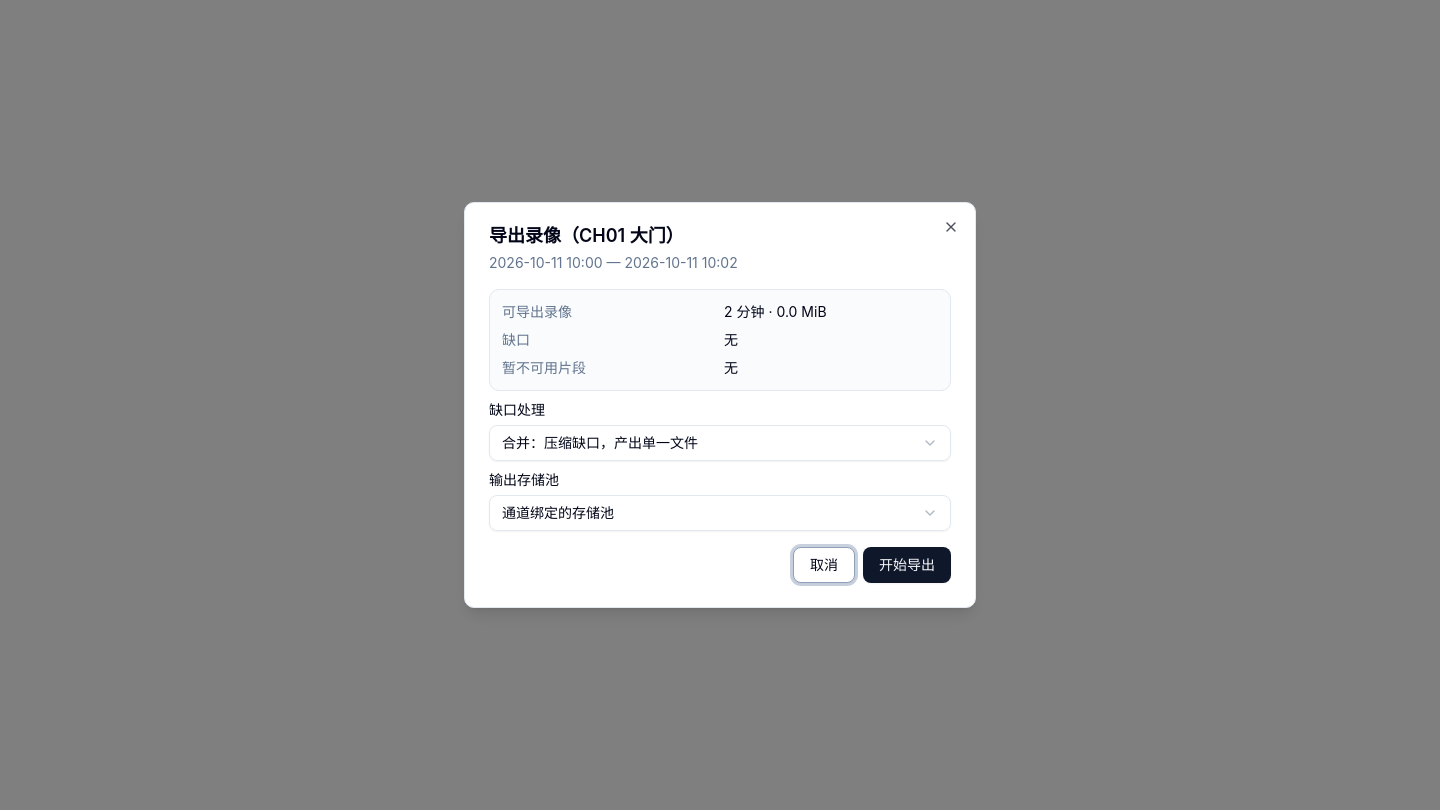
Scenario: the dialog previews the range and submits with the chosen gap handling
The width and height of the screenshot is (1440, 810).
Expected: the text "可导出录像" is shown, [502,303,572,320]
What coordinates should you click on to do the following:
click the dropdown named "缺口处理"
I would click on:
 (600, 442)
Its box is [489,425,951,461].
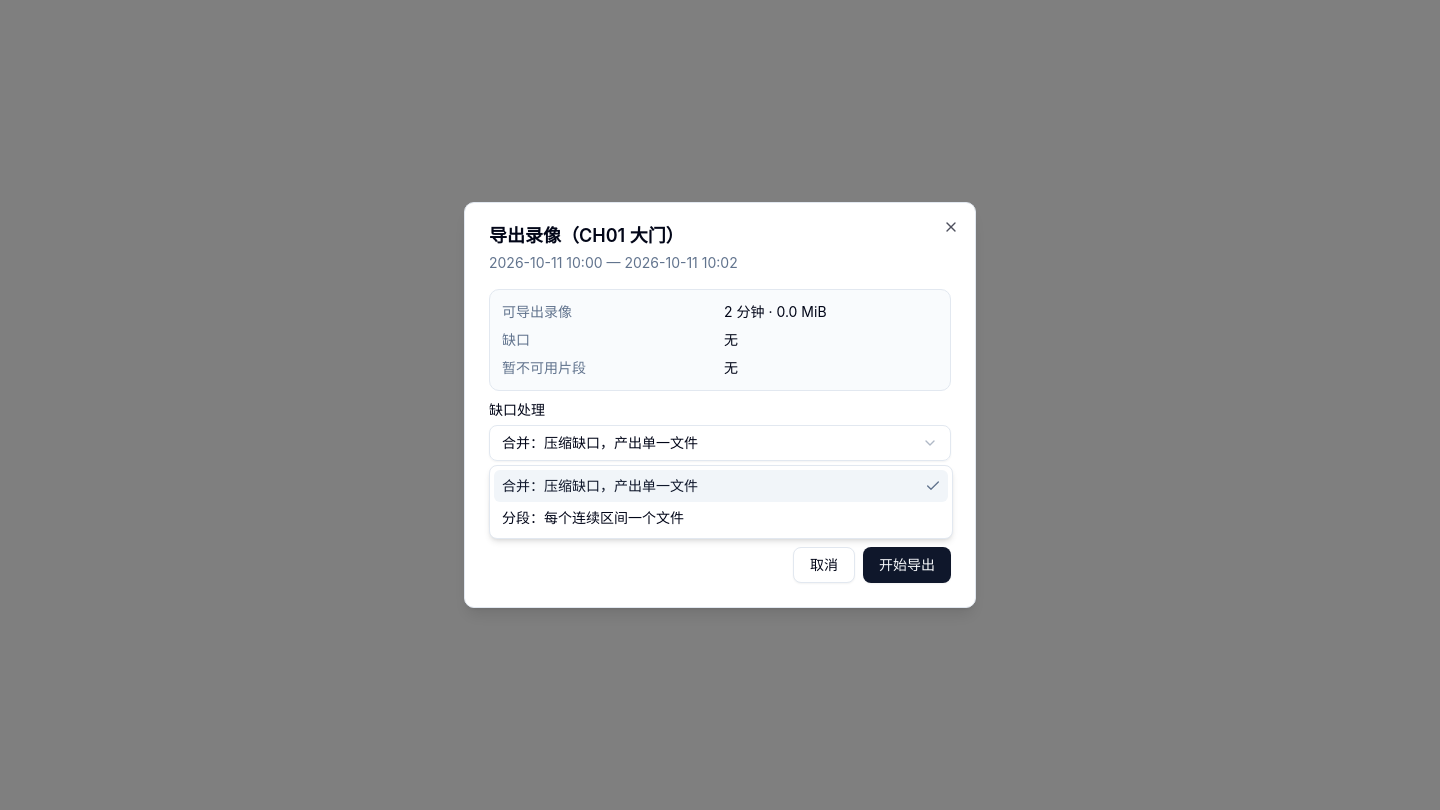
What coordinates should you click on to do the following:
click the option "分段：每个连续区间一个文件"
I would click on:
 (593, 518)
Its box is [502,509,684,526].
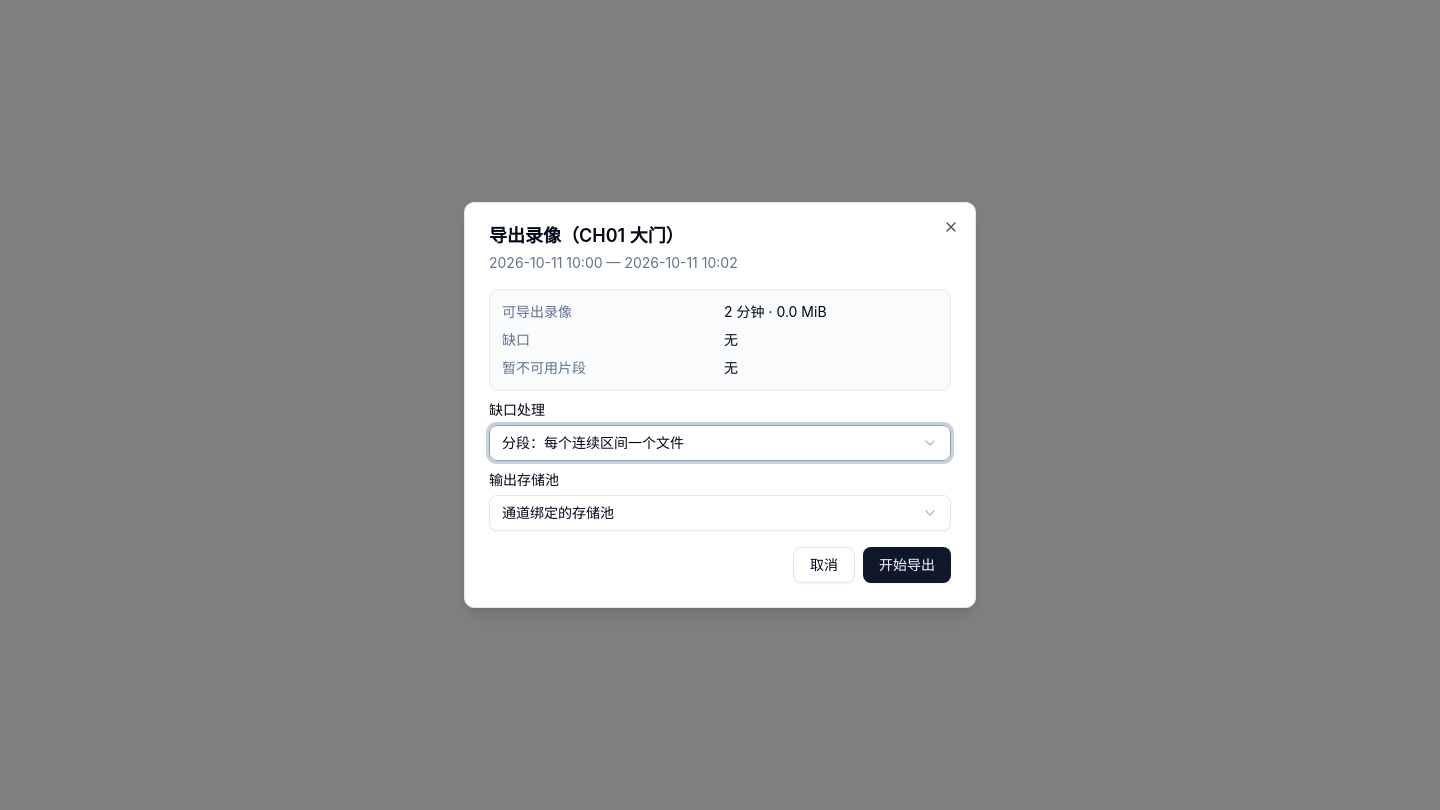
What coordinates should you click on to do the following:
click the button "开始导出"
I would click on:
 (907, 565)
Its box is [863,547,951,583].
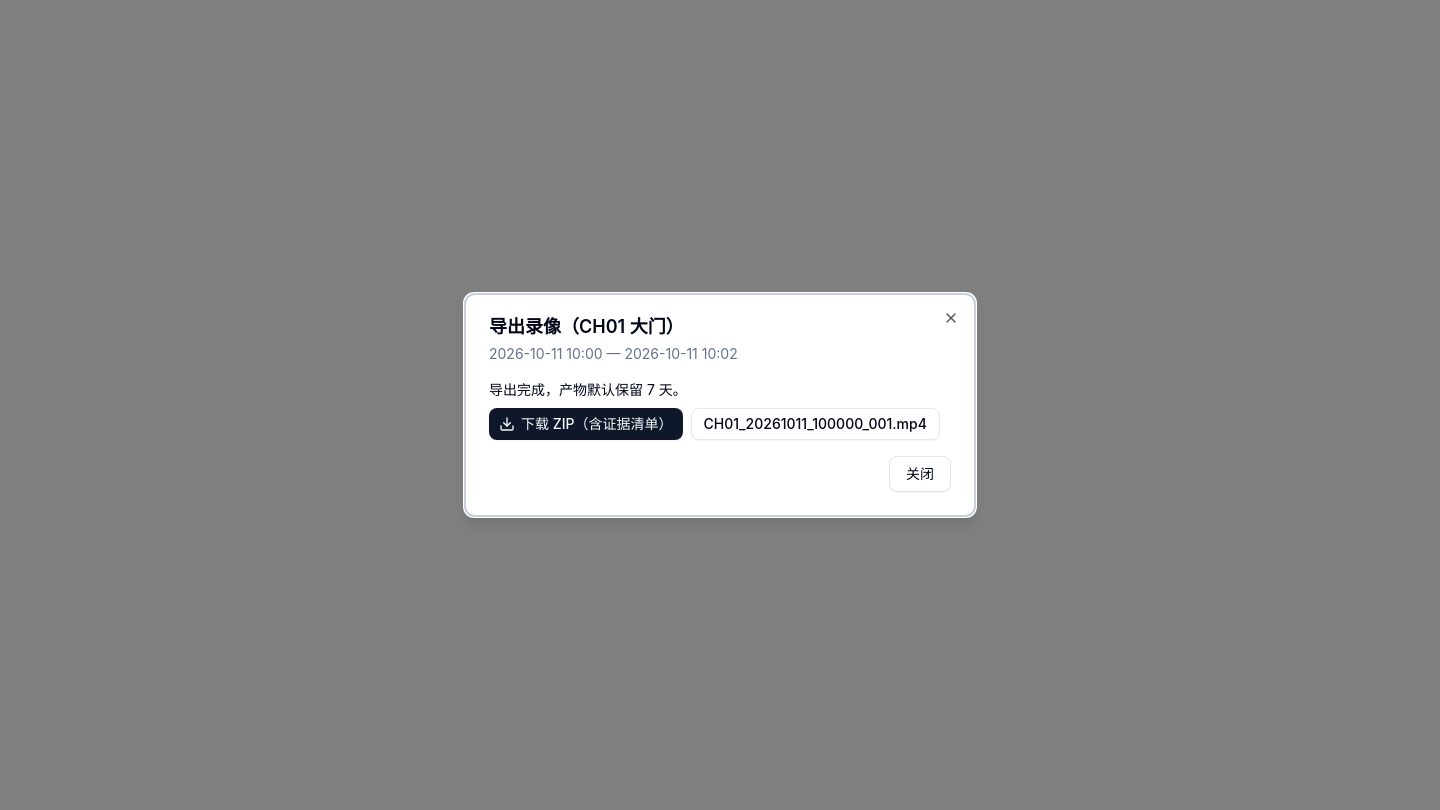
Result: the text "导出完成，产物默认保留 7 天。" is shown at [489,381,687,398]
